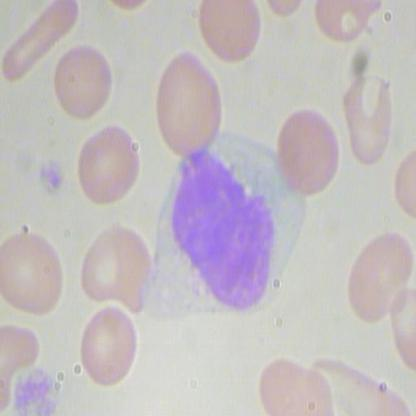RBC: (151, 45, 227, 161), (0, 220, 72, 317), (1, 1, 82, 87), (78, 224, 155, 314), (269, 105, 345, 196), (72, 299, 144, 393), (344, 229, 415, 324), (339, 63, 401, 171), (73, 121, 144, 210), (52, 39, 115, 128)
WBC: (140, 132, 307, 335)
